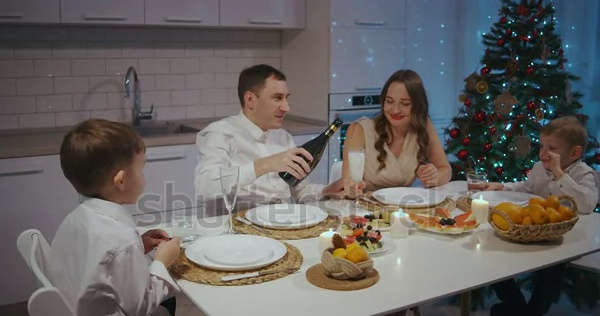No Mask: (236, 65, 305, 138), (530, 114, 589, 181), (377, 70, 424, 131)
